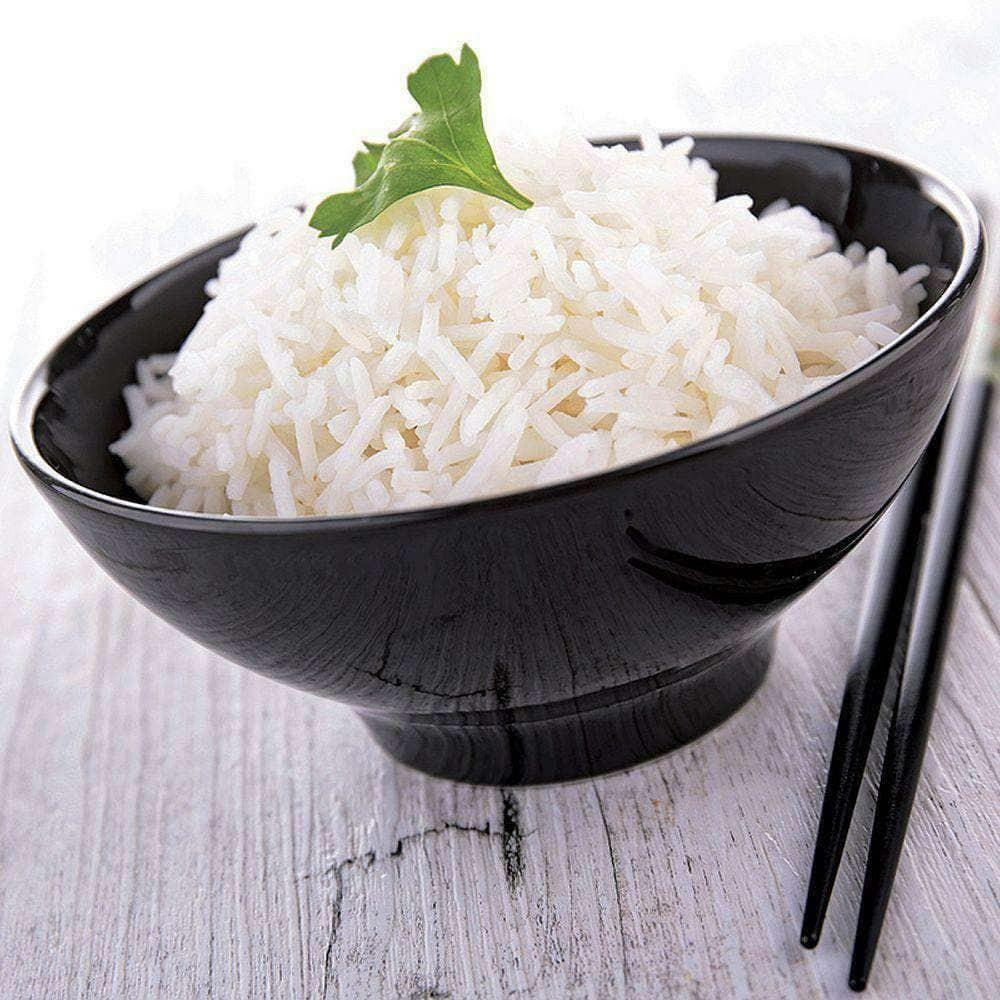WhiteRice: (126, 65, 920, 515)
